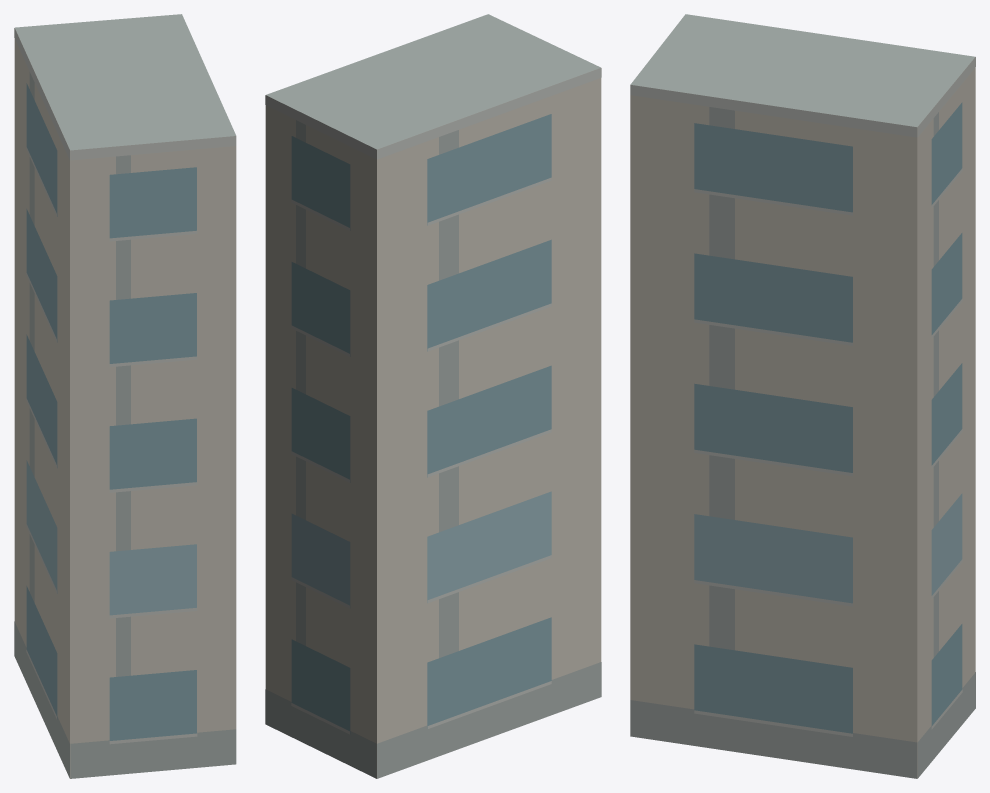
The model's file is survey-upis-32909369.glb.
3 views of the same model, side by side, from view 1: azimuth 30°, elevation 25°; view 2: azimuth 150°, elevation 25°; view 3: azimuth 270°, elevation 25° (orthographic). The views are drawn at different scales.
Parts seen in each view (by area): view 1: survey-upis-32909369.tmp; view 2: survey-upis-32909369.tmp; view 3: survey-upis-32909369.tmp.
Part boxes in pixels (bbox=[...]): survey-upis-32909369.tmp: bbox=[14, 14, 236, 778]; survey-upis-32909369.tmp: bbox=[265, 14, 601, 778]; survey-upis-32909369.tmp: bbox=[630, 14, 975, 778].
Bounding box in the file's own units: 5.69 × 15.25 × 7.34.
